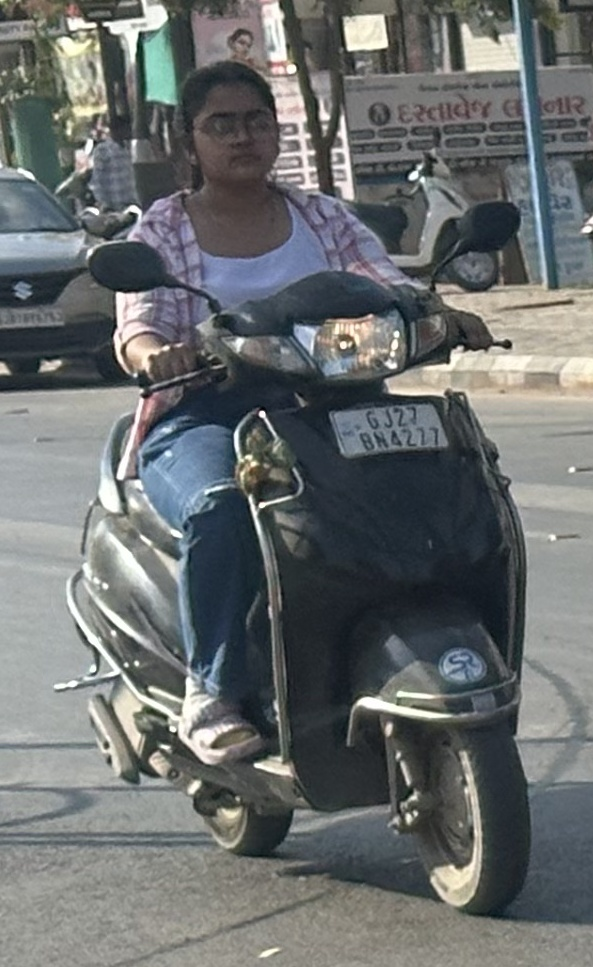BikeWithRider: (44, 46, 554, 931)
NoHelmet: (161, 55, 298, 199)
